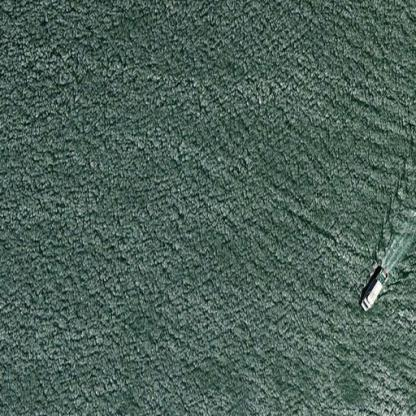ship: (356, 263, 390, 313)
